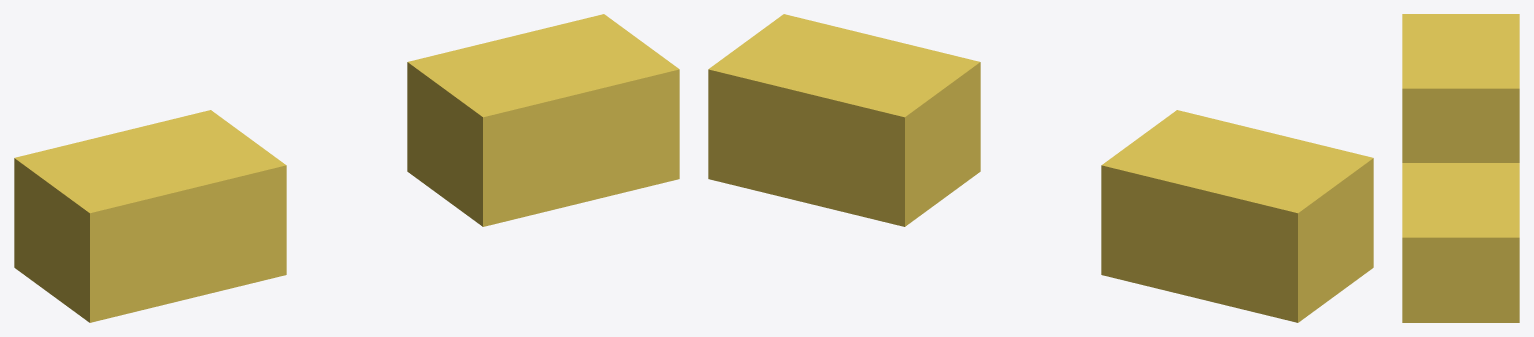
Rendered from indicator_set.glb.
3 views of the same model, side by side, from view 1: azimuth 30°, elevation 25°; view 2: azimuth 150°, elevation 25°; view 3: azimuth 270°, elevation 25° (orthographic). The views are drawn at different scales.
Visible parts, largest first — view 1: lens_l, lens_r; view 2: lens_l, lens_r; view 3: lens_r, lens_l.
Part boxes in pixels (x1=…): lens_l: x1=14, y1=110, x2=286, y2=322; lens_r: x1=407, y1=14, x2=679, y2=226; lens_l: x1=1101, y1=110, x2=1373, y2=322; lens_r: x1=708, y1=14, x2=980, y2=226; lens_r: x1=1402, y1=163, x2=1519, y2=322; lens_l: x1=1402, y1=14, x2=1519, y2=162.
Size of the model in its own units: 0.9 by 0.1599 by 0.2.
